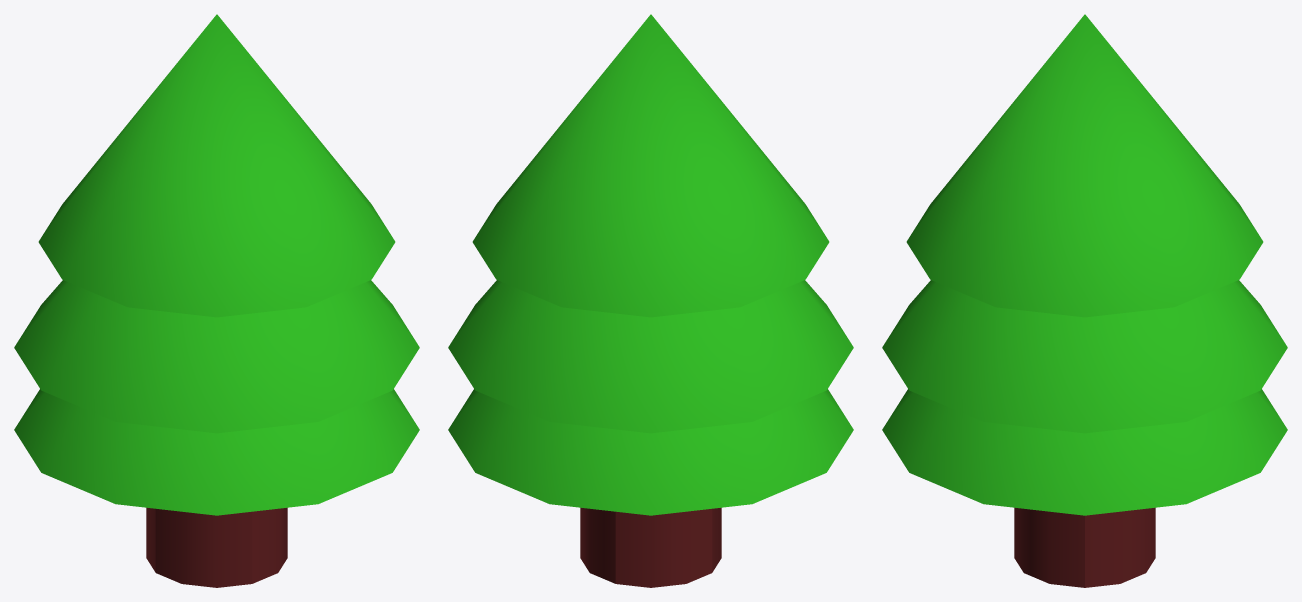
The model's file is Tree.fbx.
3 views of the same model, side by side, from view 1: azimuth 30°, elevation 25°; view 2: azimuth 150°, elevation 25°; view 3: azimuth 270°, elevation 25° (orthographic).
Parts seen in each view (by area): view 1: Cylinder; view 2: Cylinder; view 3: Cylinder.
Part boxes in pixels (bbox=[...]): Cylinder: bbox=[14, 14, 419, 587]; Cylinder: bbox=[448, 14, 853, 587]; Cylinder: bbox=[882, 14, 1287, 587].
Bounding box in the file's own units: 257 × 381 × 257.
